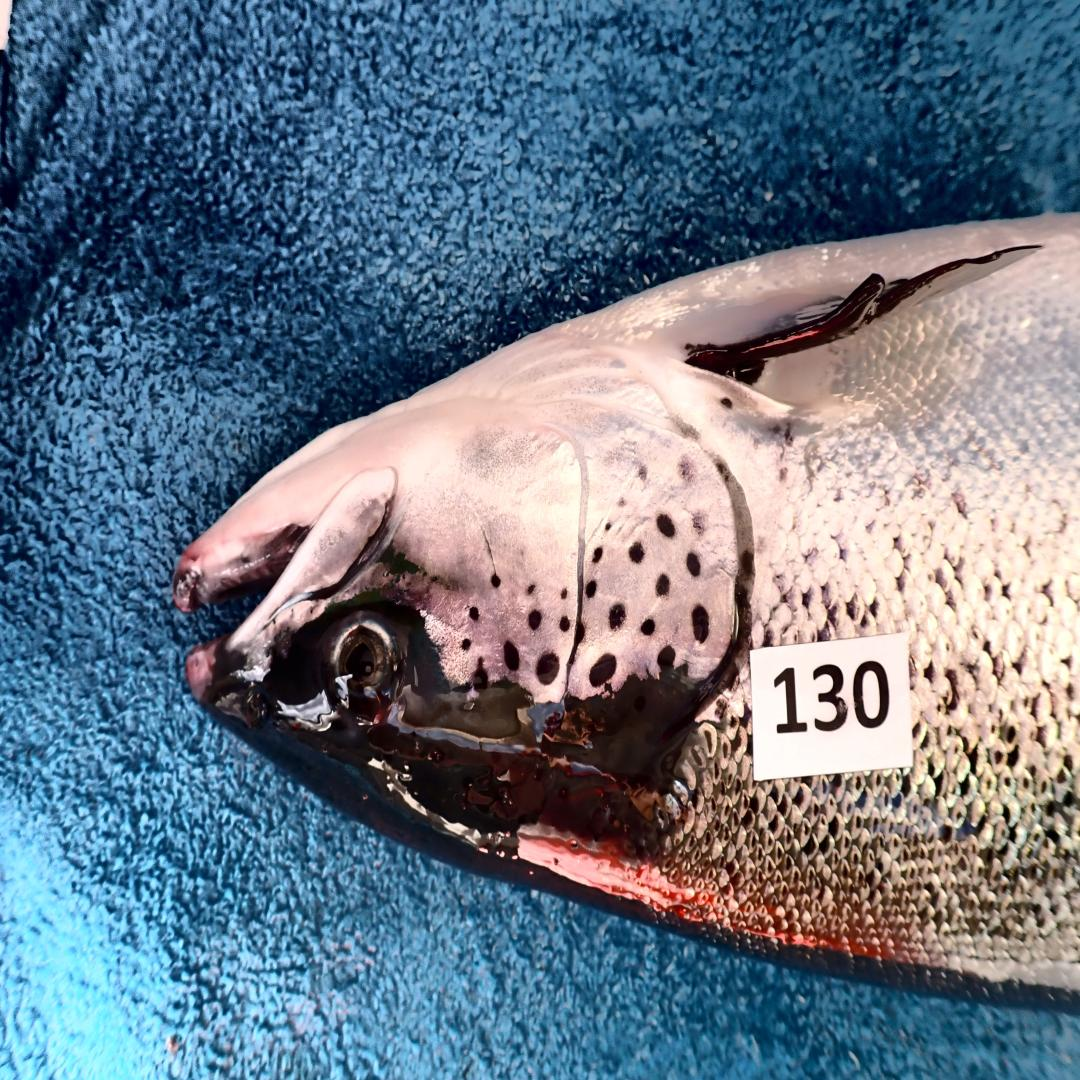spot: (589, 652, 616, 686), (536, 652, 559, 683), (692, 605, 709, 641), (472, 658, 489, 692), (504, 641, 519, 672), (656, 515, 675, 537), (610, 605, 626, 630), (692, 511, 706, 538), (679, 456, 694, 481), (658, 647, 675, 669), (686, 551, 700, 577), (740, 550, 754, 575), (656, 574, 671, 596), (527, 610, 542, 630), (629, 543, 643, 562), (641, 619, 656, 636), (586, 579, 597, 599), (638, 461, 648, 483), (559, 616, 570, 633), (593, 546, 603, 562), (468, 608, 479, 622), (491, 574, 500, 588), (560, 587, 569, 600), (617, 497, 627, 508), (462, 638, 470, 650), (527, 583, 535, 595), (605, 521, 611, 532)
